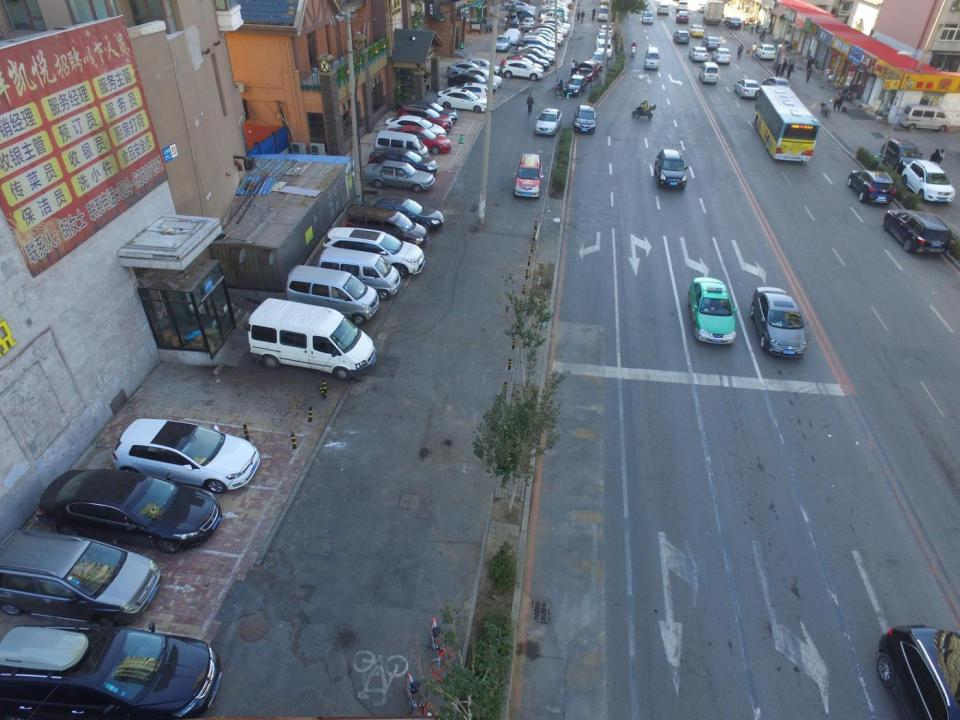bus: (751, 84, 820, 164)
car: (0, 618, 220, 719), (32, 461, 218, 559), (0, 526, 162, 624), (110, 417, 260, 493), (322, 223, 427, 276), (748, 285, 807, 360), (686, 276, 738, 346), (882, 209, 956, 257), (366, 193, 446, 230), (363, 161, 438, 196), (903, 156, 956, 205), (647, 144, 691, 193), (367, 148, 437, 176), (845, 168, 897, 204), (389, 124, 449, 154), (382, 116, 448, 142), (398, 103, 453, 132), (880, 137, 924, 172), (404, 99, 458, 124), (514, 150, 542, 198), (436, 90, 490, 114), (446, 72, 498, 94), (501, 60, 542, 83), (533, 105, 563, 136), (440, 84, 491, 101), (504, 52, 551, 70), (458, 68, 502, 87), (574, 101, 599, 134), (444, 61, 493, 77), (520, 35, 562, 53), (516, 37, 560, 54), (463, 55, 500, 75), (504, 54, 545, 72), (519, 32, 564, 48), (516, 48, 554, 66), (526, 30, 565, 47), (530, 27, 570, 42), (761, 75, 791, 95), (733, 78, 762, 98), (514, 44, 558, 57), (562, 73, 584, 97), (540, 18, 575, 33), (532, 23, 571, 36), (575, 59, 599, 80), (594, 22, 618, 40), (538, 8, 571, 21), (756, 42, 778, 60), (712, 48, 733, 66), (686, 46, 709, 62), (595, 40, 614, 59), (592, 50, 608, 70), (493, 33, 510, 51), (686, 21, 705, 37), (540, 12, 570, 22), (510, 10, 535, 21), (510, 2, 537, 12), (701, 36, 720, 50), (672, 30, 691, 44), (654, 0, 670, 16), (595, 34, 615, 46), (724, 17, 742, 30), (506, 26, 518, 45), (506, 16, 520, 32), (643, 10, 654, 28), (676, 10, 690, 24), (522, 16, 533, 32), (695, 2, 710, 13), (675, 0, 688, 12)
truck: (702, 0, 726, 27)
van: (249, 297, 377, 380), (284, 267, 382, 323), (316, 248, 403, 302), (345, 206, 426, 246), (369, 131, 433, 158), (698, 62, 719, 85), (644, 46, 658, 72), (597, 4, 611, 20)
